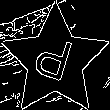P_S: (31, 31, 79, 91)
